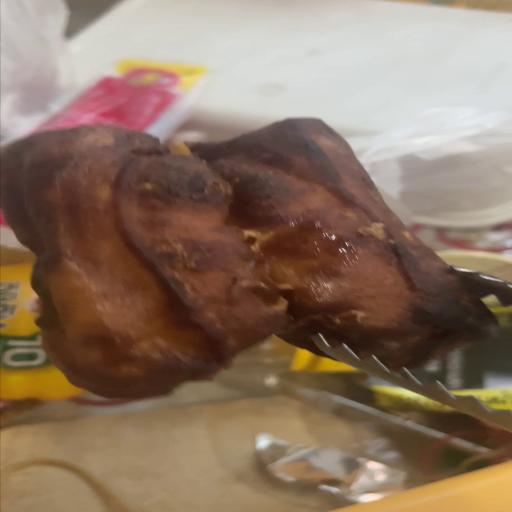street_burnt_defect: (0, 118, 497, 399)
